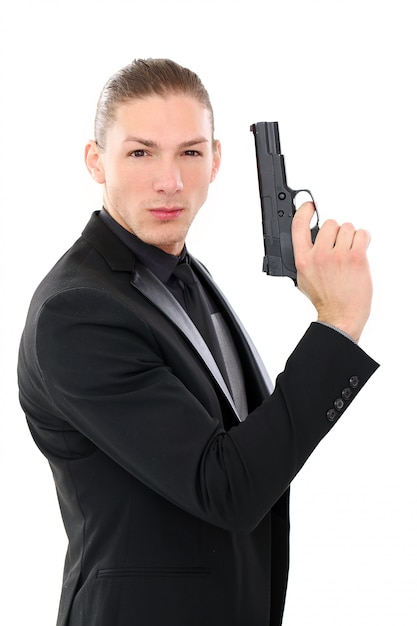gun: (249, 119, 337, 290)
